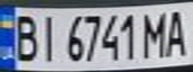1: (118, 10, 142, 61)
4: (100, 10, 121, 61)
6: (60, 11, 84, 63)
7: (81, 11, 103, 62)
A: (163, 7, 190, 57)
B: (9, 10, 42, 62)
I: (36, 11, 60, 62)
M: (139, 8, 172, 59)
